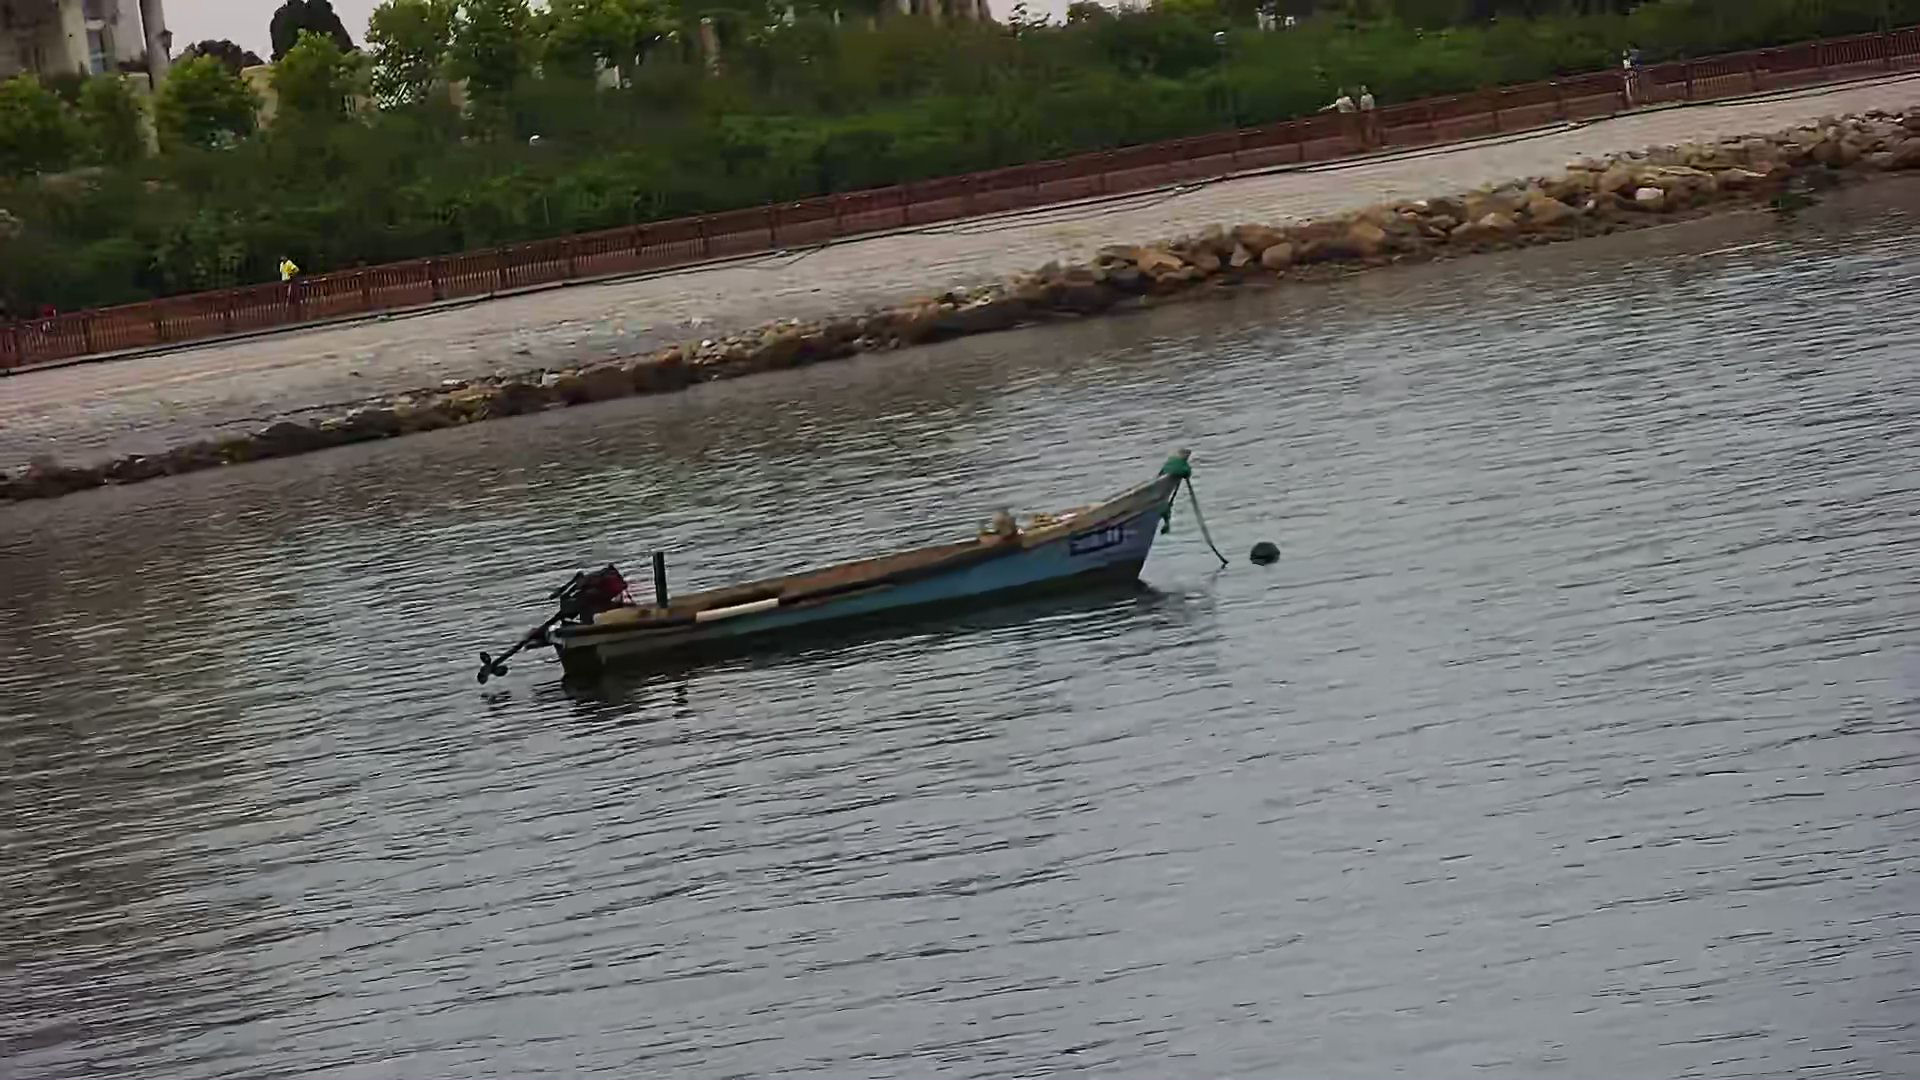ball: (1247, 535, 1284, 571)
boat: (464, 454, 1207, 686)
